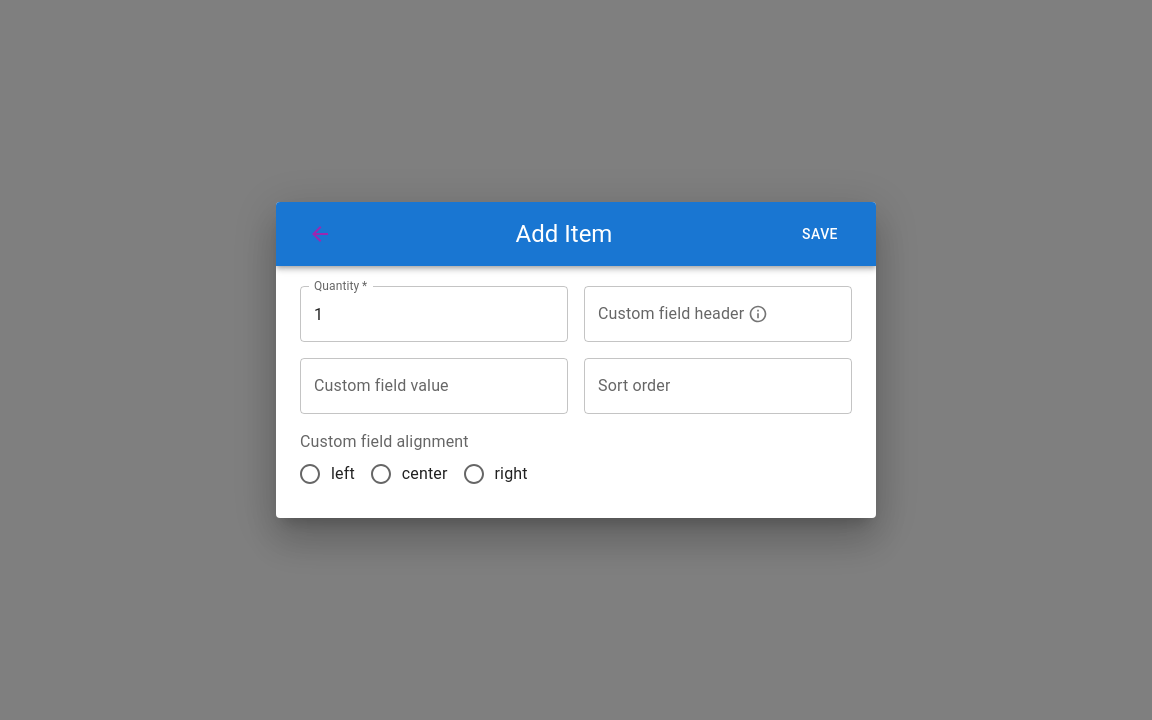
Test: ItemMetadataSetter › renders custom headers returned by the API without duplicating supplied options
The width and height of the screenshot is (1152, 720).
Click the dropdown labelled "Custom field header". click: click(703, 314)
box: [593,295,813,333]
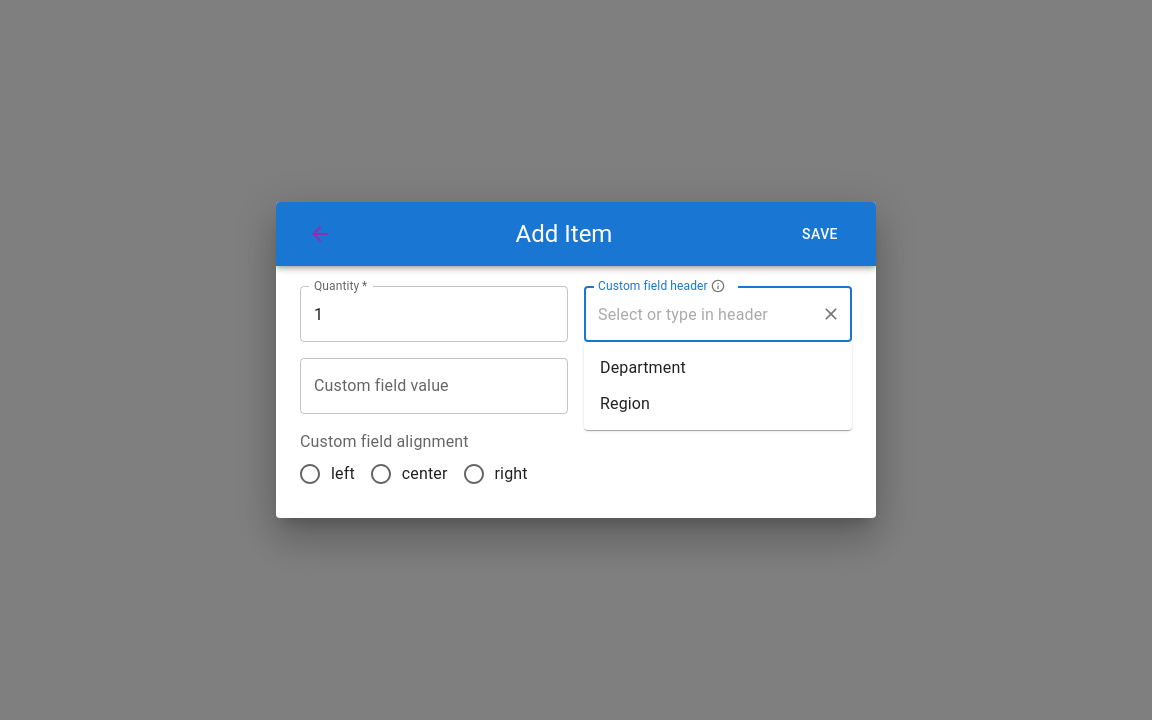
Expected: the option "Region" is shown, [600,394,650,413]
Expected: the number of options "Department" is 1, [600,358,686,377]
